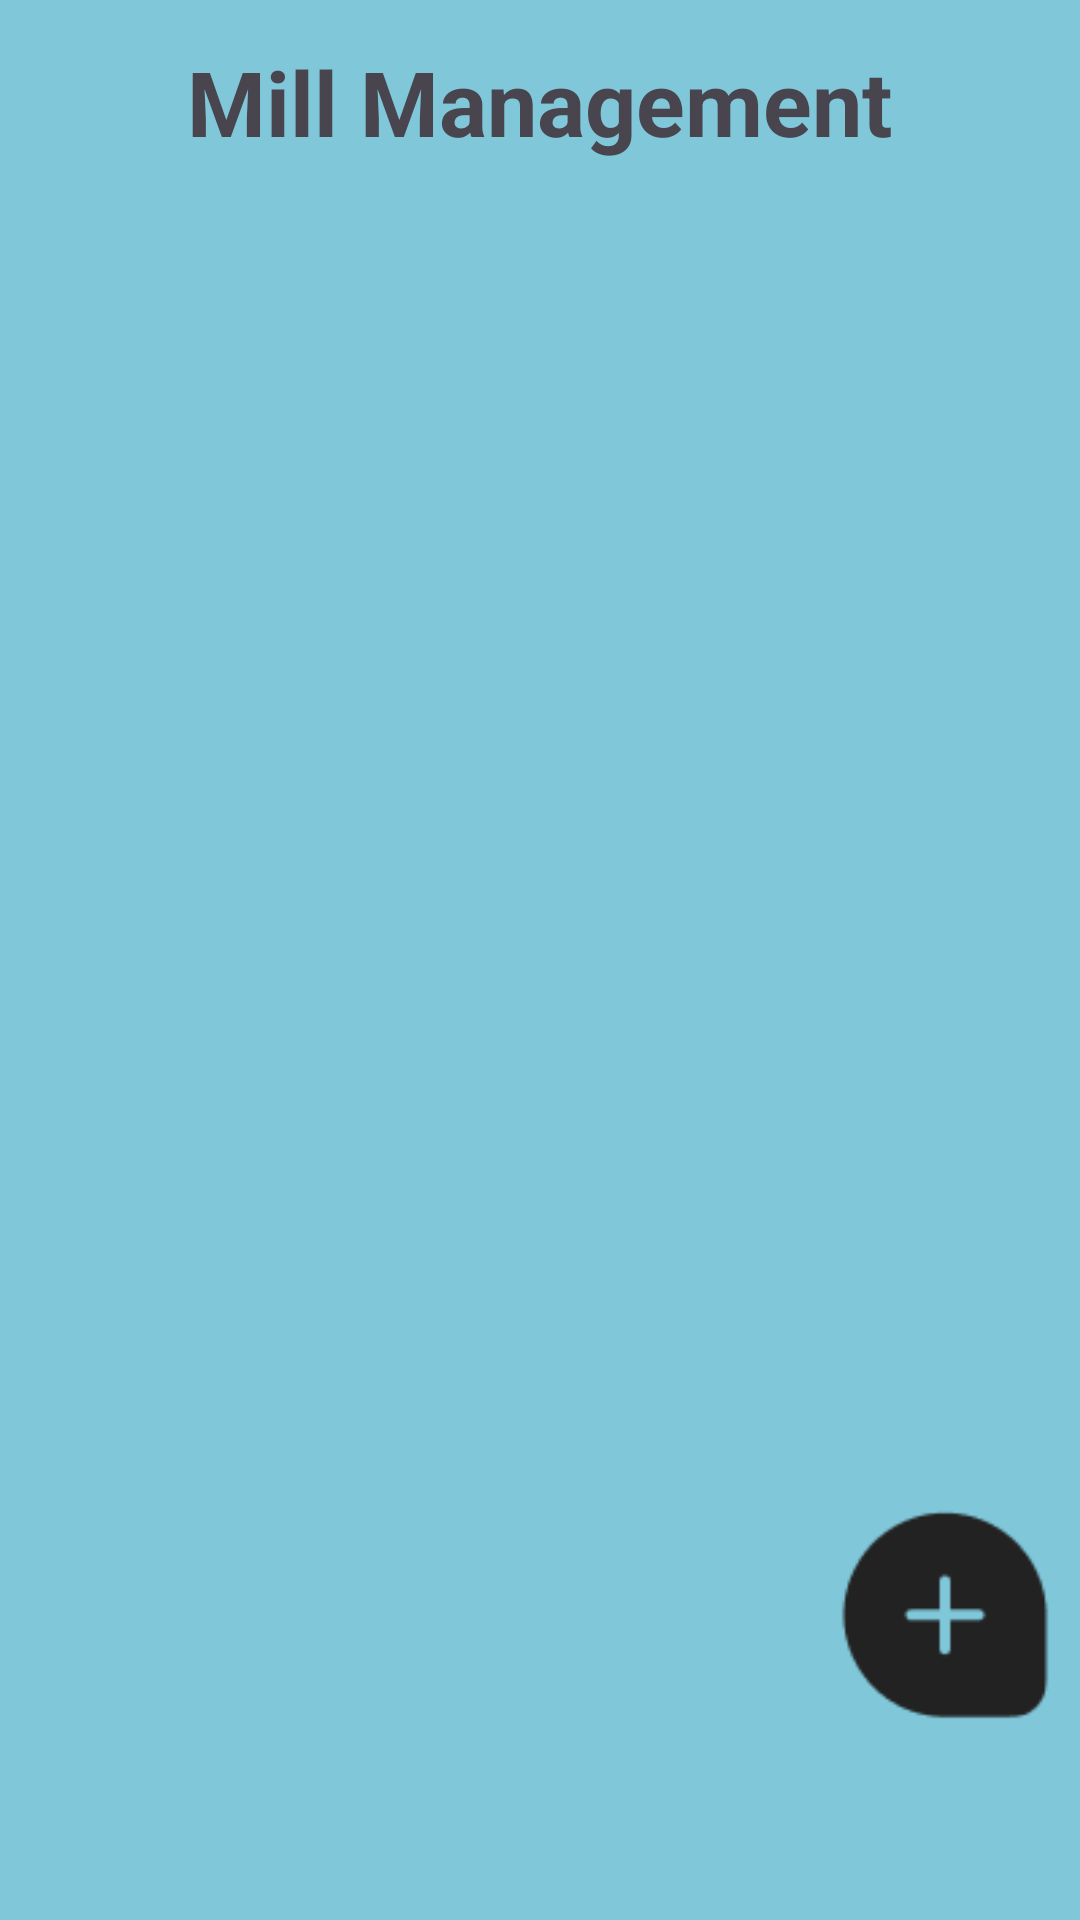

Icon bounding boxes for this 1080 × 1920 phone screenshot, format [x1=x1, y1=y1, x2=x2, y2=y2]:
plus: [x1=842, y1=1512, x2=1048, y2=1718]
